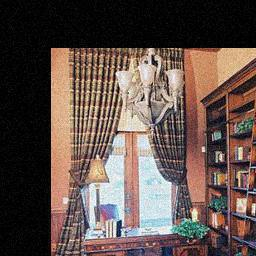Bote de Basura: (69, 251, 88, 256)
Puerta: (79, 124, 173, 252)
